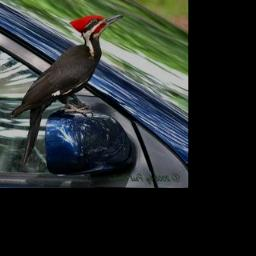Woodpecker: (8, 13, 126, 172)
